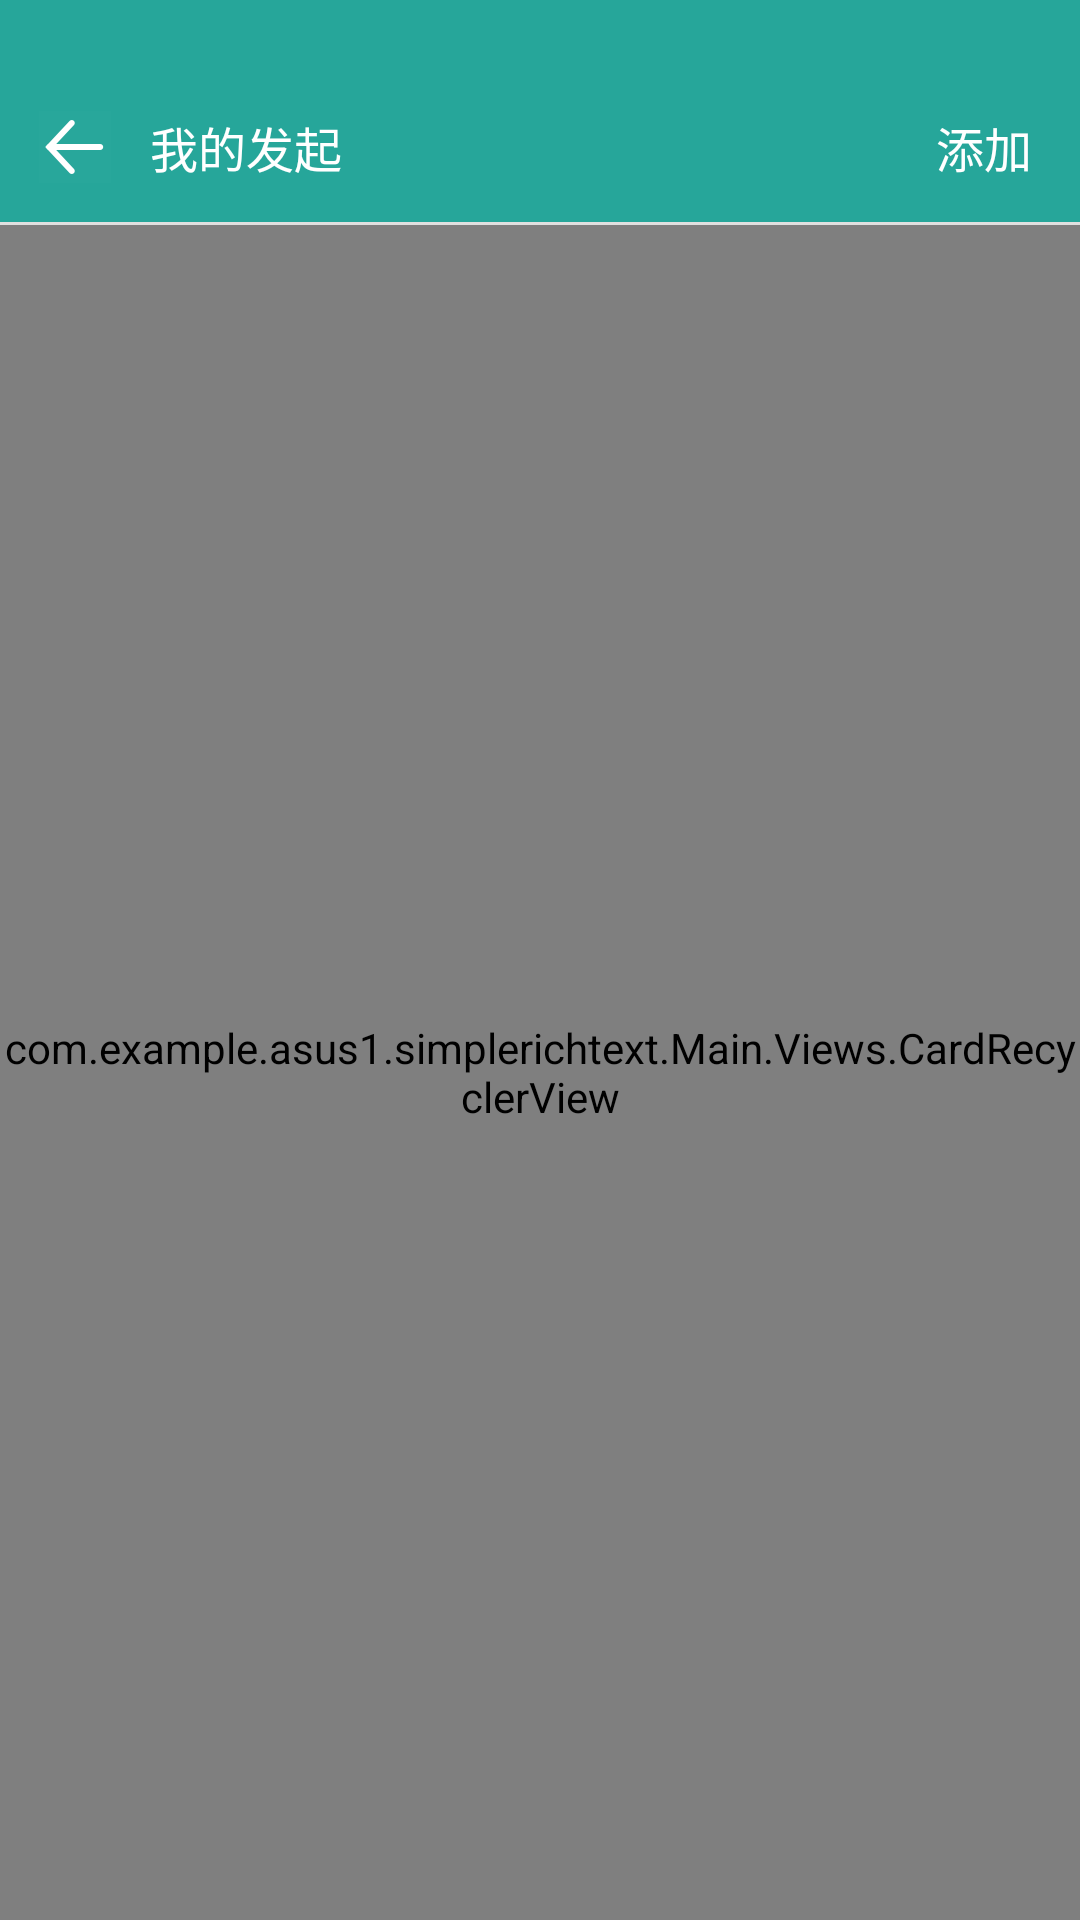

Named icons in this screenshot (1080 x 1920) and their centers, (x,y):
back: (74,147)
